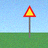sign: (23, 5, 36, 37)
